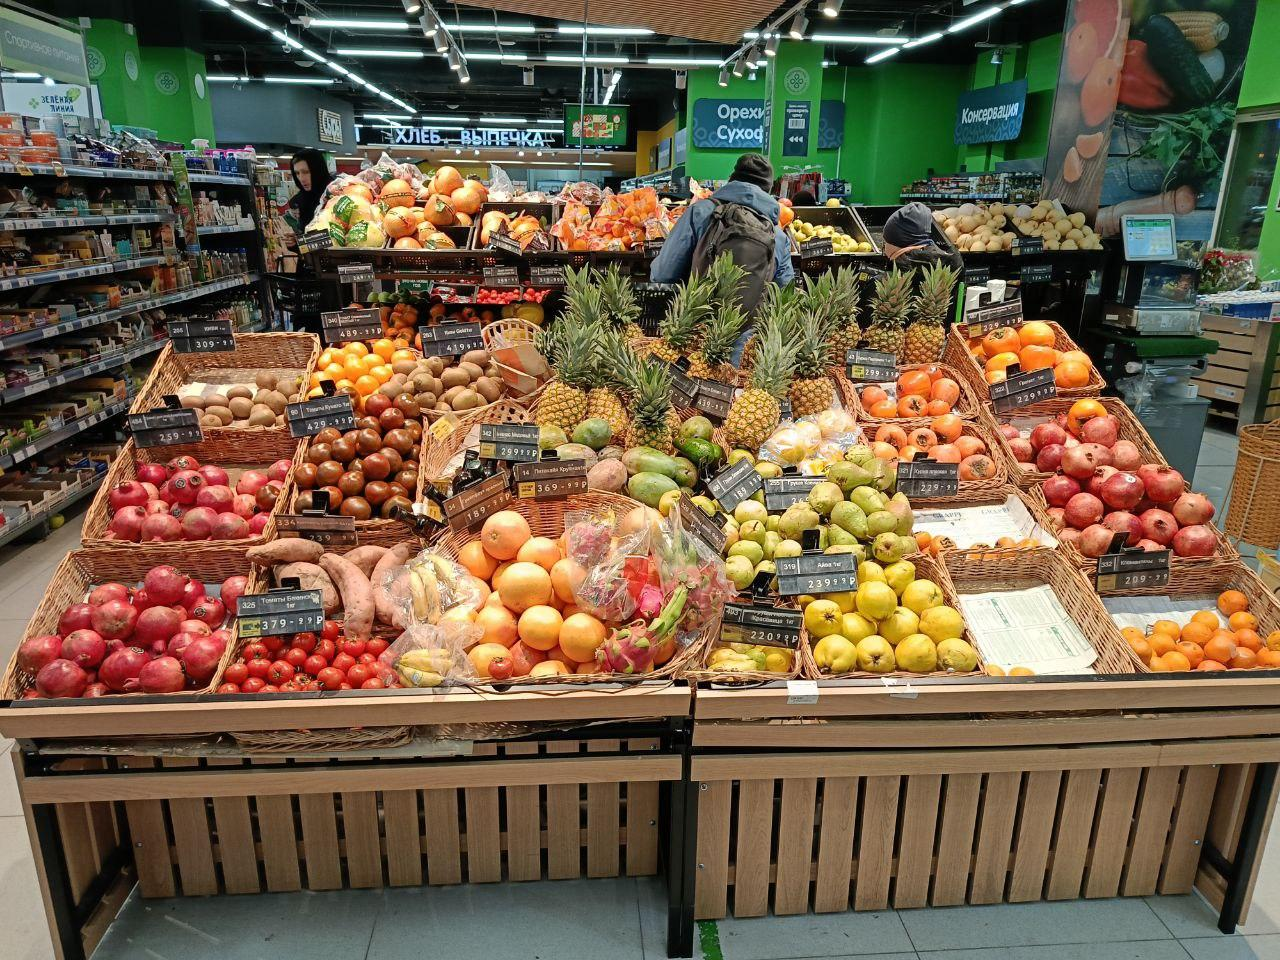mandarin: (1120, 591, 1280, 671)
pear: (729, 465, 921, 563)
pineapple: (740, 277, 950, 369), (535, 269, 637, 436), (652, 288, 736, 392), (726, 342, 790, 447), (628, 367, 675, 460), (791, 323, 836, 415)
pomegranate: (20, 564, 250, 704), (1050, 457, 1215, 557), (104, 455, 290, 542), (1002, 416, 1139, 474)
tomato: (308, 401, 429, 516), (230, 626, 400, 696)
